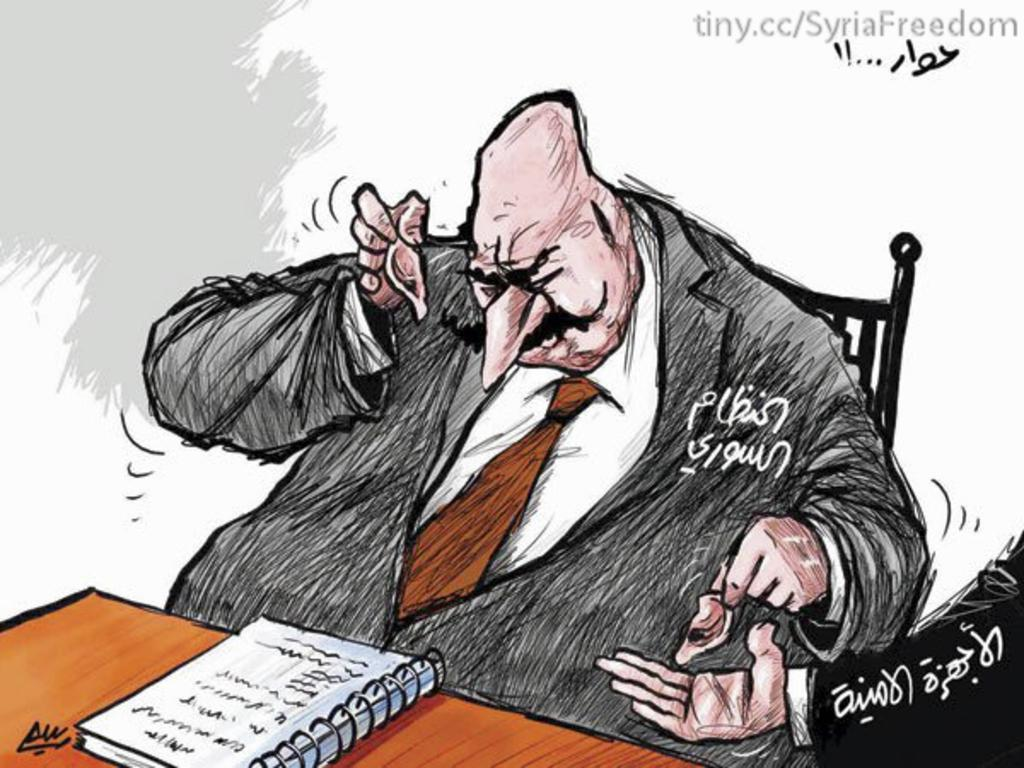Book: (58, 606, 449, 766)
